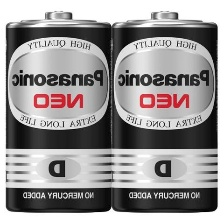battery: (2, 9, 115, 216), (109, 8, 219, 214)
